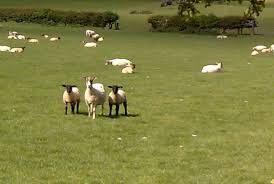sheep: (82, 75, 108, 121), (61, 85, 85, 121), (107, 84, 130, 120), (199, 58, 224, 77), (103, 58, 130, 69), (82, 39, 101, 52), (119, 66, 136, 76), (247, 47, 261, 58), (7, 34, 26, 41), (50, 34, 62, 43), (9, 45, 26, 51), (27, 37, 39, 45), (1, 43, 10, 53), (216, 33, 227, 40), (41, 32, 49, 41), (256, 43, 265, 51), (89, 34, 99, 41), (83, 29, 90, 37), (95, 38, 105, 42)
